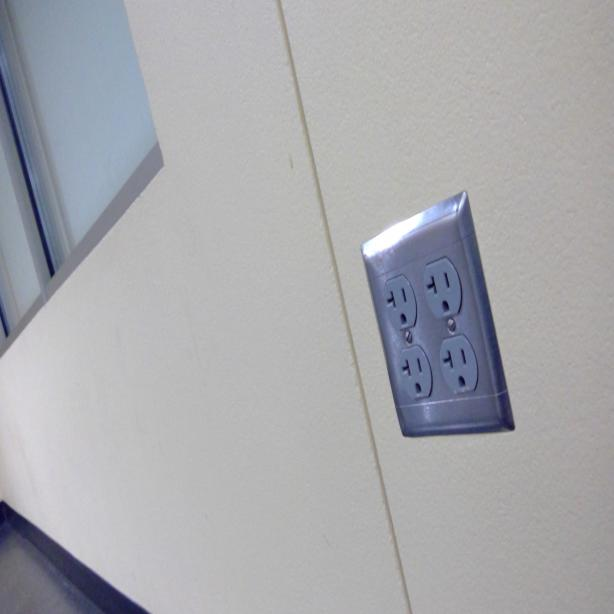typeb: (440, 336, 478, 396), (424, 262, 462, 318), (381, 272, 416, 328), (395, 345, 430, 399)
